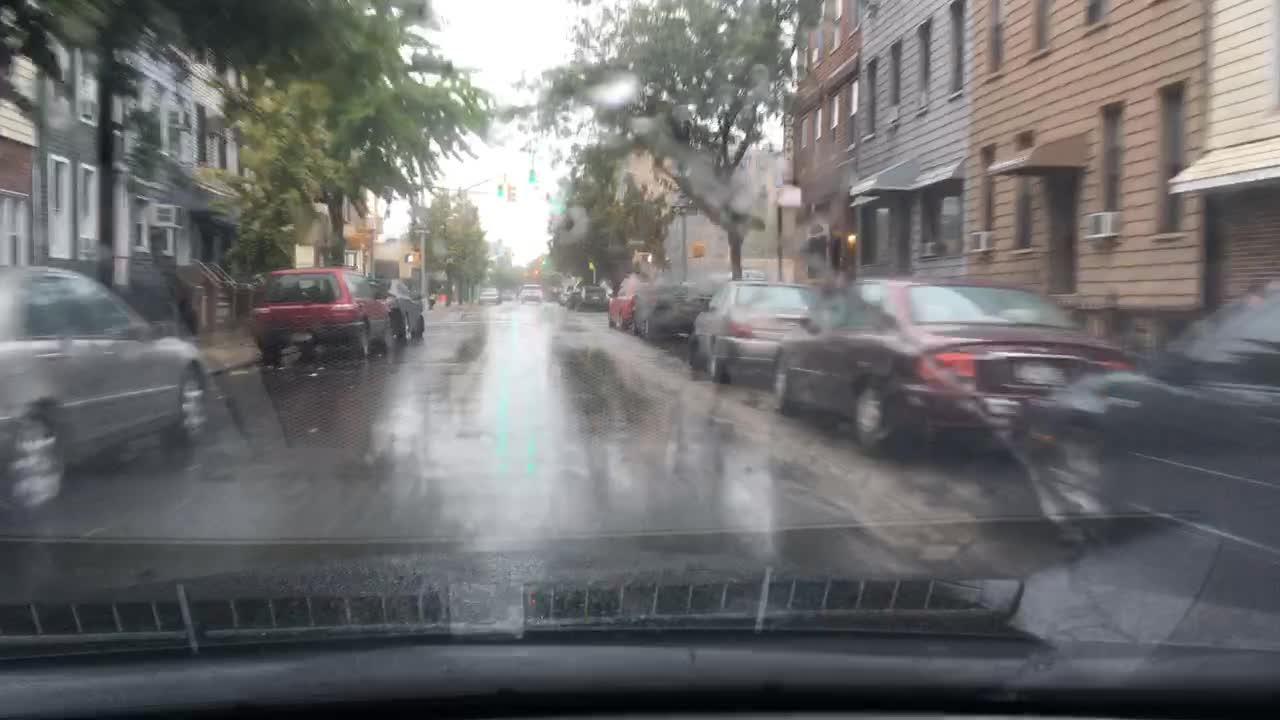car: (760, 276, 1150, 461), (1019, 266, 1276, 542), (2, 256, 224, 513), (241, 263, 400, 370), (685, 270, 830, 386), (631, 272, 718, 340), (371, 279, 428, 344), (604, 279, 646, 328), (580, 283, 610, 307), (477, 284, 501, 307), (519, 283, 543, 304), (562, 286, 580, 302), (499, 284, 515, 300), (547, 281, 562, 297)
person: (428, 286, 437, 311)
traffic light: (687, 243, 704, 255), (505, 183, 515, 202), (527, 167, 538, 183), (405, 253, 419, 265), (543, 190, 554, 204), (496, 181, 503, 195)
traffic sign: (540, 256, 555, 269)
